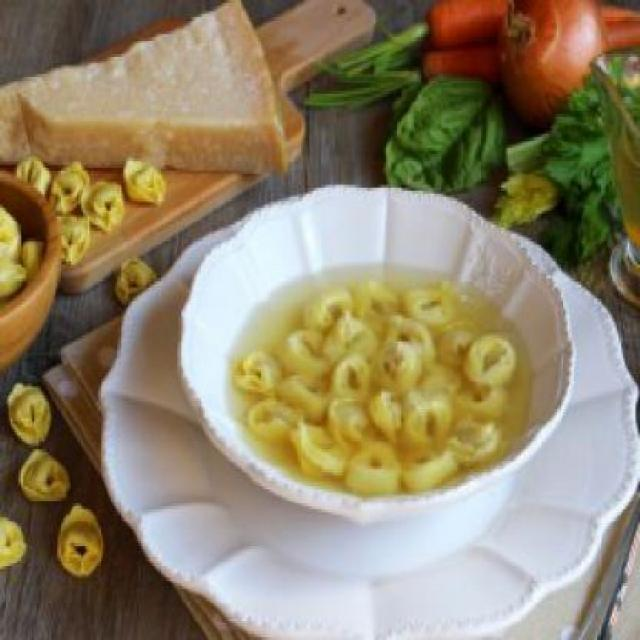Tortellini in broth: (254, 256, 506, 498)
